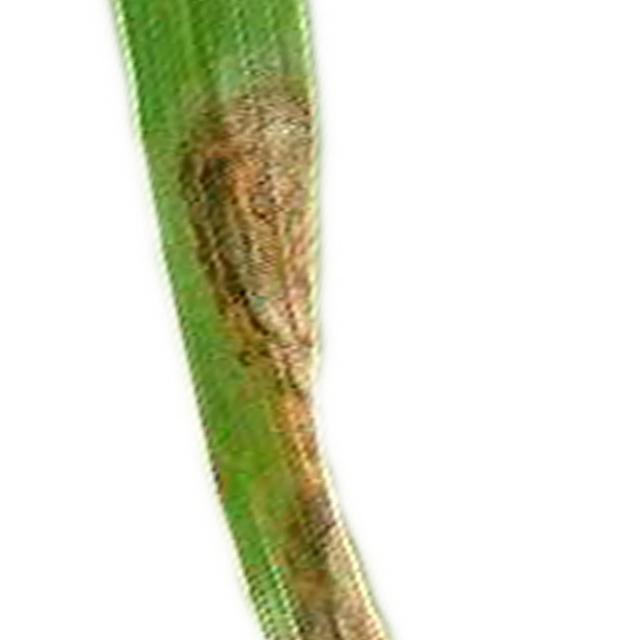Leaf scald: (108, 0, 505, 637)
